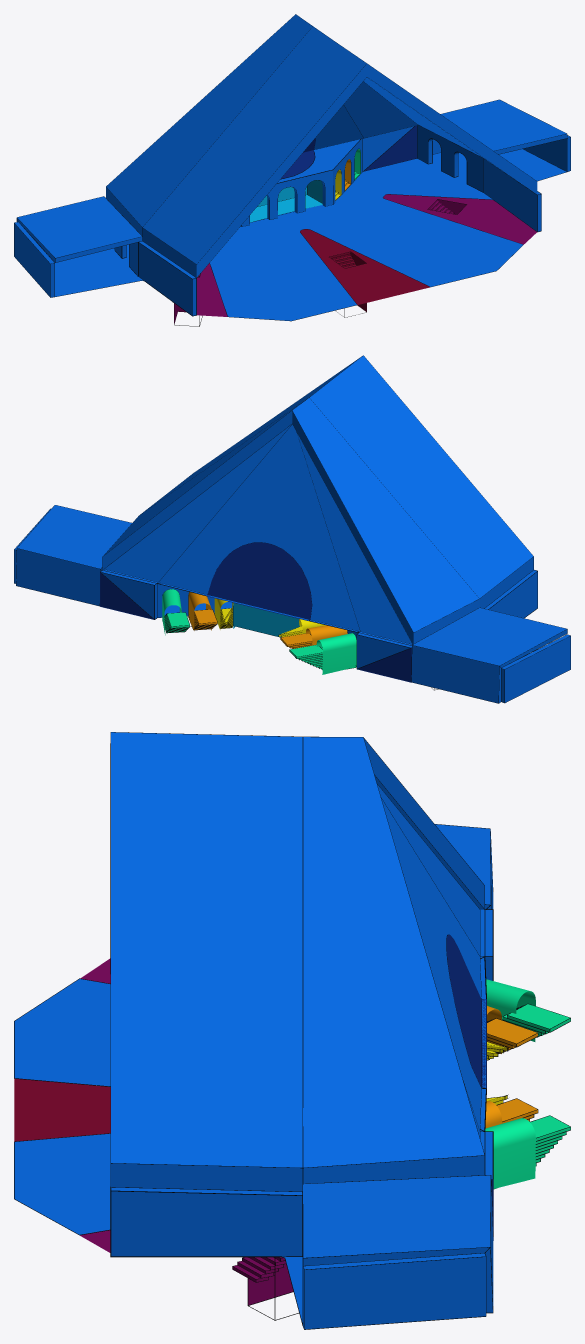
The model's file is mainroom.fbx.
3 views of the same model, one above another, from view 1: azimuth 30°, elevation 25°; view 2: azimuth 150°, elevation 25°; view 3: azimuth 270°, elevation 25° (orthographic). The views are drawn at different scales.
Parts seen in each view (by area): view 1: roof, floor, wing1, walls, sing2, vhsape, Plane.016, wall, walls.005, walls.008, innerroom, stairwellarh1; view 2: roof, wing1, sing2, walls, stairwellarh1, innerroom, wall, stairsup1, stairsup6, stairsup5; view 3: roof, sing2, floor, walls, Plane.016, stairwellarh1, wing1, stairsup1, stairwell3, stairsup2, stairsup6, stairsdown3 (+1 smaller).
Part boxes in pixels (bbox=[...]): roof: bbox=[106, 14, 537, 277]; floor: bbox=[45, 149, 566, 321]; wing1: bbox=[14, 196, 142, 297]; walls: bbox=[138, 125, 541, 316]; sing2: bbox=[432, 99, 570, 171]; vhsape: bbox=[197, 194, 536, 316]; Plane.016: bbox=[300, 229, 429, 304]; wall: bbox=[240, 139, 362, 226]; walls.005: bbox=[417, 125, 483, 192]; walls.008: bbox=[277, 139, 360, 183]; innerroom: bbox=[250, 186, 322, 222]; stairwellarh1: bbox=[335, 149, 360, 194]; roof: bbox=[102, 355, 533, 645]; wing1: bbox=[411, 607, 570, 703]; sing2: bbox=[14, 505, 131, 606]; walls: bbox=[100, 570, 537, 682]; stairwellarh1: bbox=[162, 589, 356, 674]; innerroom: bbox=[233, 603, 299, 637]; wall: bbox=[157, 584, 357, 639]; stairsup1: bbox=[289, 645, 356, 669]; stairsup6: bbox=[162, 612, 189, 633]; stairsup5: bbox=[188, 609, 217, 630]; roof: bbox=[110, 732, 485, 1191]; sing2: bbox=[302, 1175, 493, 1329]; floor: bbox=[14, 978, 302, 1325]; walls: bbox=[110, 909, 493, 1257]; Plane.016: bbox=[14, 1078, 110, 1141]; stairwellarh1: bbox=[485, 979, 535, 1188]; wing1: bbox=[435, 824, 493, 909]; stairsup1: bbox=[502, 1003, 570, 1037]; stairwell3: bbox=[247, 1257, 298, 1320]; stairsup2: bbox=[487, 1018, 538, 1053]; stairsup6: bbox=[494, 1115, 570, 1189]; stairsdown3: bbox=[232, 1257, 285, 1282].
Size of the model in its own units: 3926 by 1890 by 2049.
